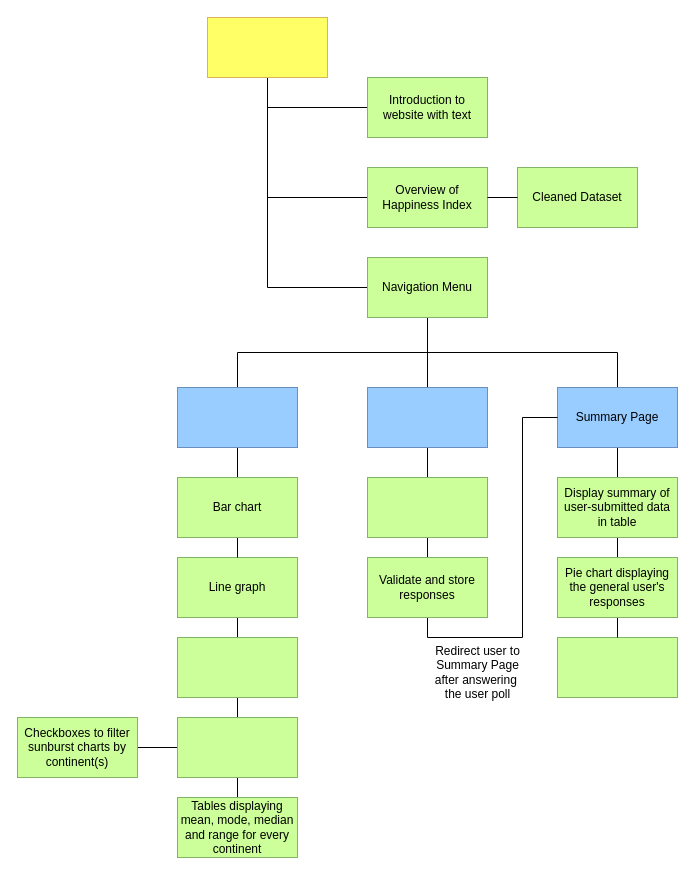
This 695x875 diagram has some shape labels left out. The shapes that lost their labels are listed below. From the top down, each one's centre as x and y in pixels, then its label:
At (x=267, y=47): "Homepage".
At (x=237, y=417): "Statistics Page".
At (x=427, y=417): "User Poll Page".
At (x=427, y=507): "Ask for user's country, are they happy (Y/N), happiness rating from 1-7".
At (x=237, y=667): "Scatter plot".
At (x=617, y=667): "Text with suggestions for improving happiness".
At (x=237, y=747): "Sunburst Chart".
